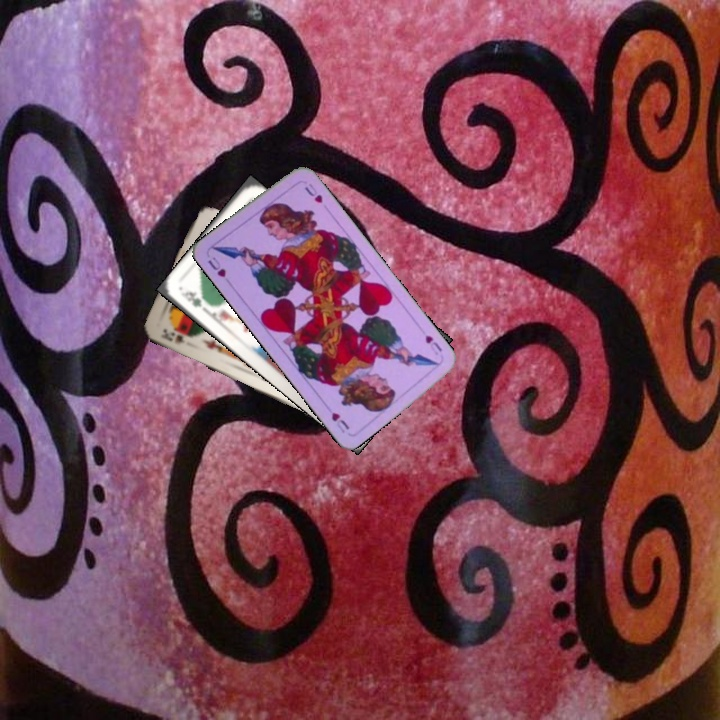GK: (176, 287, 210, 314)
HU: (203, 252, 229, 280), (421, 331, 445, 358)
SK: (156, 325, 188, 346)
